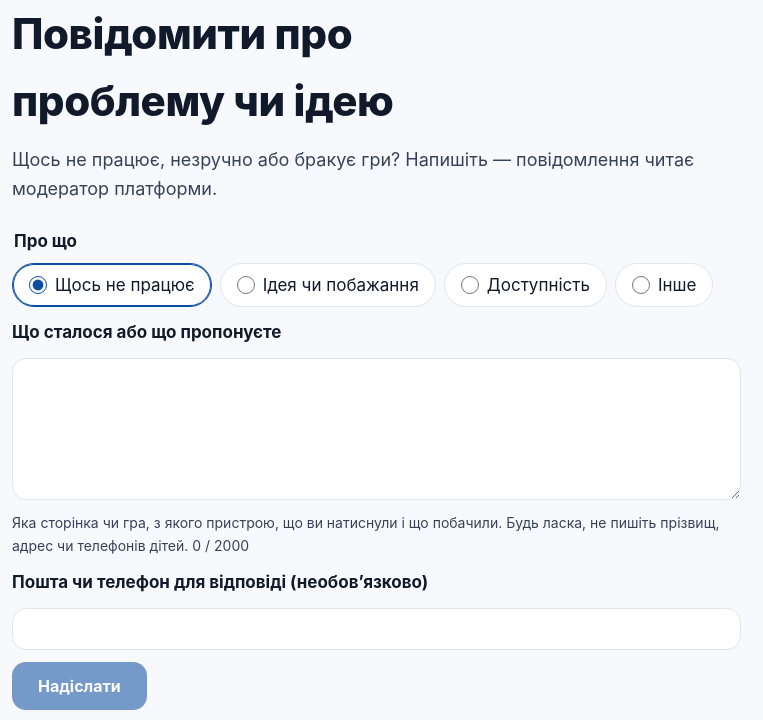
it: форма відгуку › ліміт пояснює словами й лишає текст на місці
Step 1. Type "Знову не працює" into the text box labelled "Що сталося або що пропонуєте" → (377,429), box [12, 358, 741, 500]
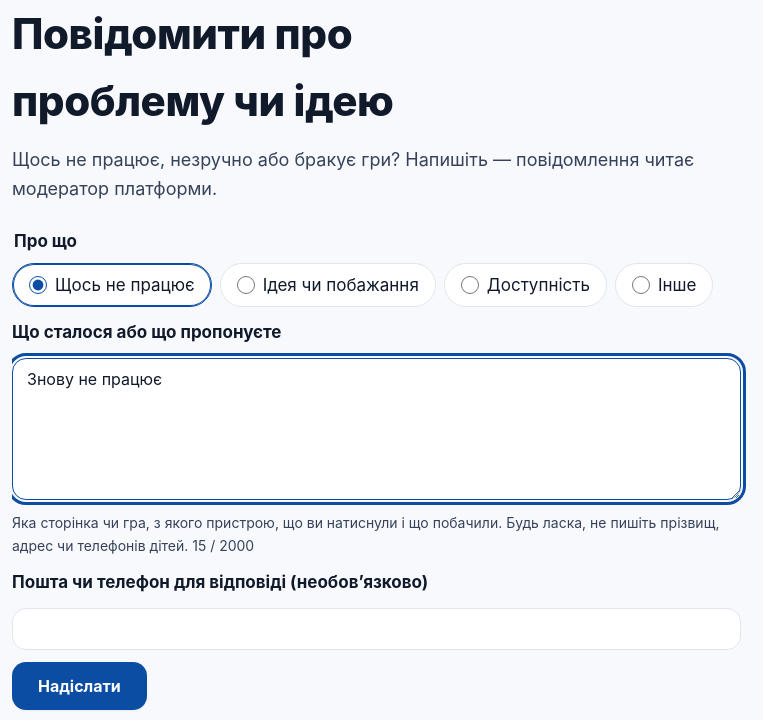
Step 2. Click the button "Надіслати" → (79,686), box [12, 662, 147, 710]
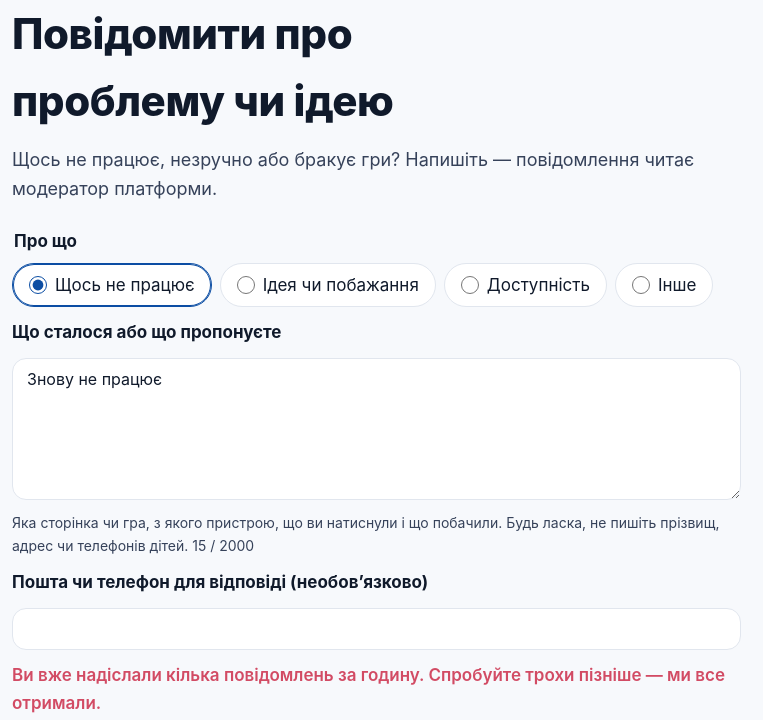
Expected: the message shows "кілька повідомлень за годину", [12, 665, 725, 712]
